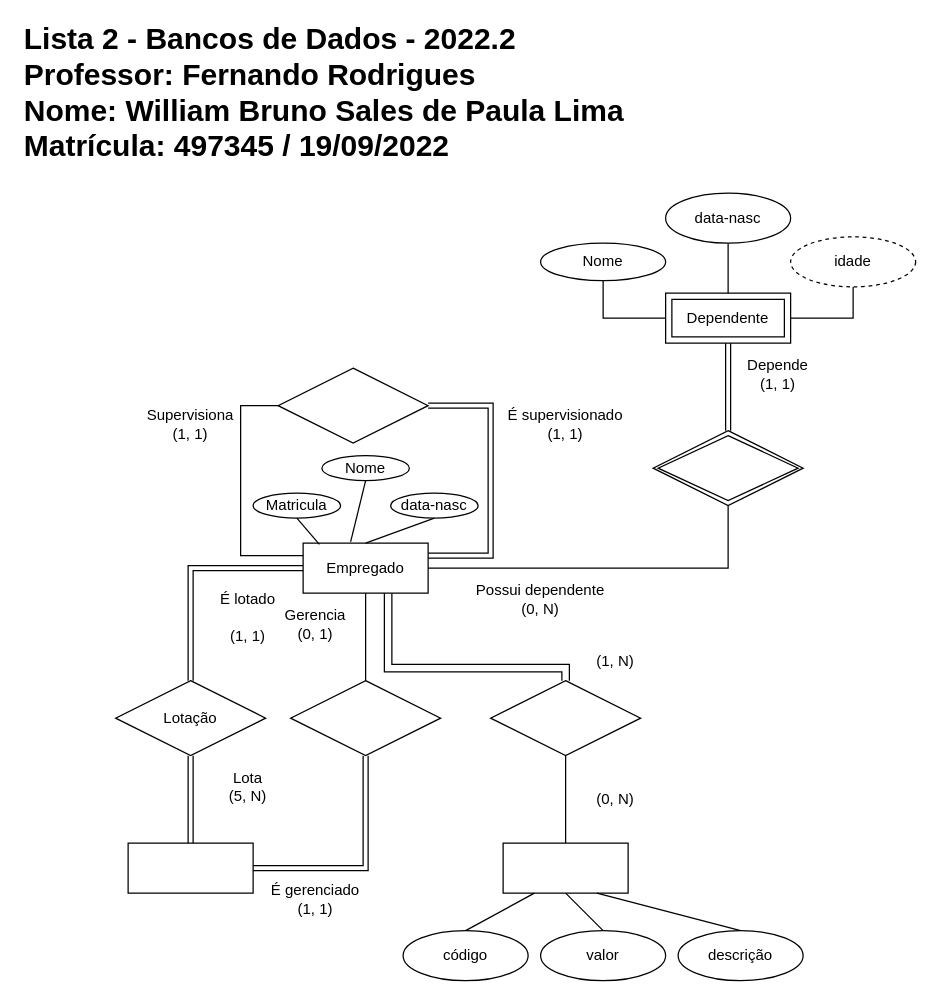
Some shapes in this 938 by 1003 pixel diagram are drawn without their labels. Each missing label, with the centre of its shape:
Departamento: [190,867]
Dependência: [727,467]
Ganha: [565,717]
Gerencia: [365,717]
Supervisiona: [352,405]
Vencimento: [565,867]
